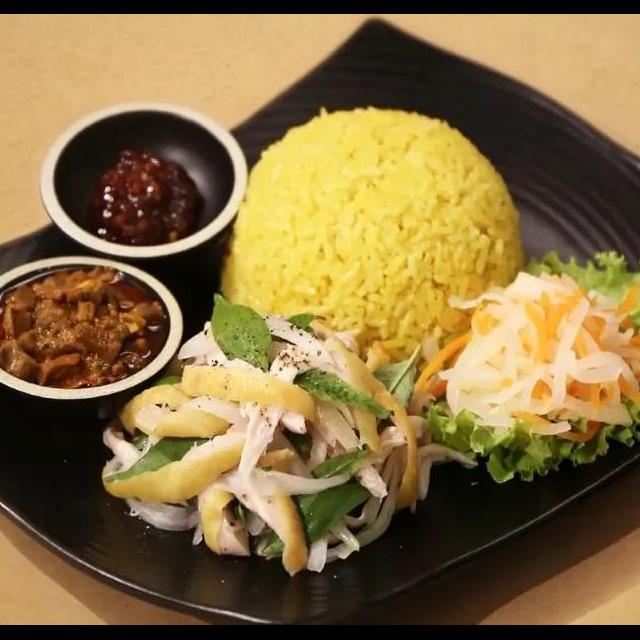com: (212, 100, 528, 373)
rau ram: (252, 446, 380, 560), (98, 426, 216, 489), (286, 364, 398, 426), (206, 292, 276, 378), (362, 339, 424, 436)
thit ga: (91, 304, 482, 580)
